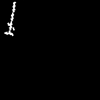double_crochet: (5, 2, 15, 35)
